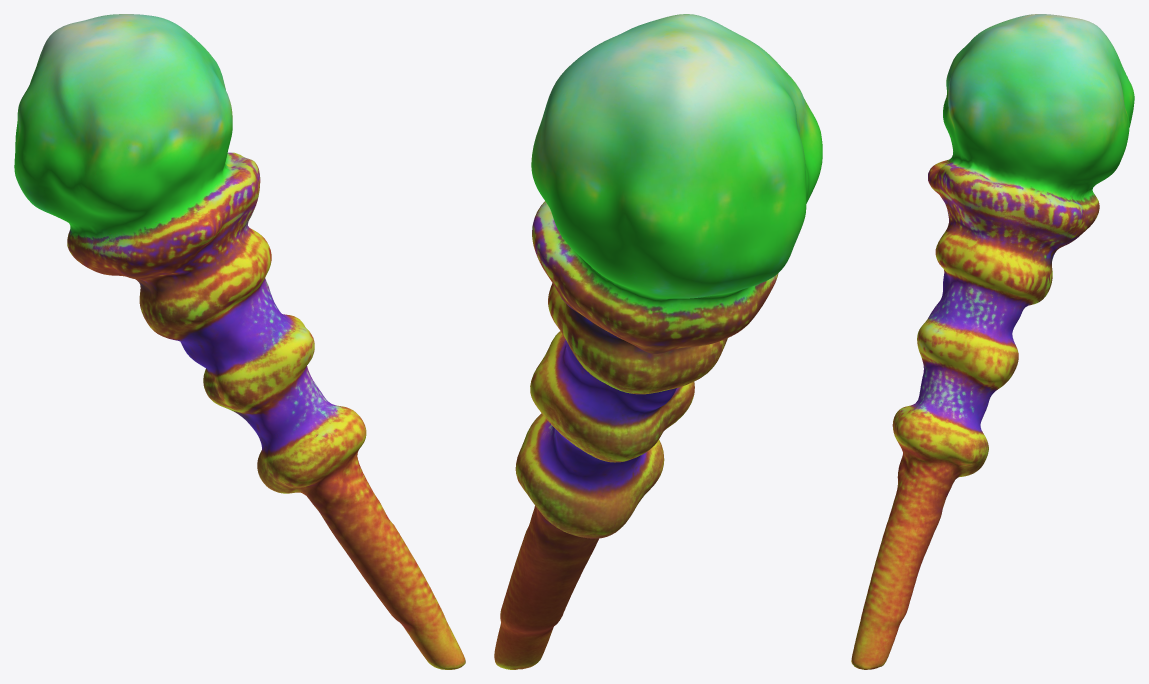
The model's file is rod.glb.
3 views of the same model, side by side, from view 1: azimuth 30°, elevation 25°; view 2: azimuth 150°, elevation 25°; view 3: azimuth 270°, elevation 25° (orthographic). The views are drawn at different scales.
Parts seen in each view (by area): view 1: Mesh1; view 2: Mesh1; view 3: Mesh1.
Boxes of the visible parts, x1=… form: Mesh1: x1=14, y1=14, x2=465, y2=669; Mesh1: x1=494, y1=14, x2=822, y2=669; Mesh1: x1=851, y1=14, x2=1134, y2=669.
Size of the model in its own units: 0.6881 by 1.2 by 0.5628.
Materials: 1 (1 with a texture image).
